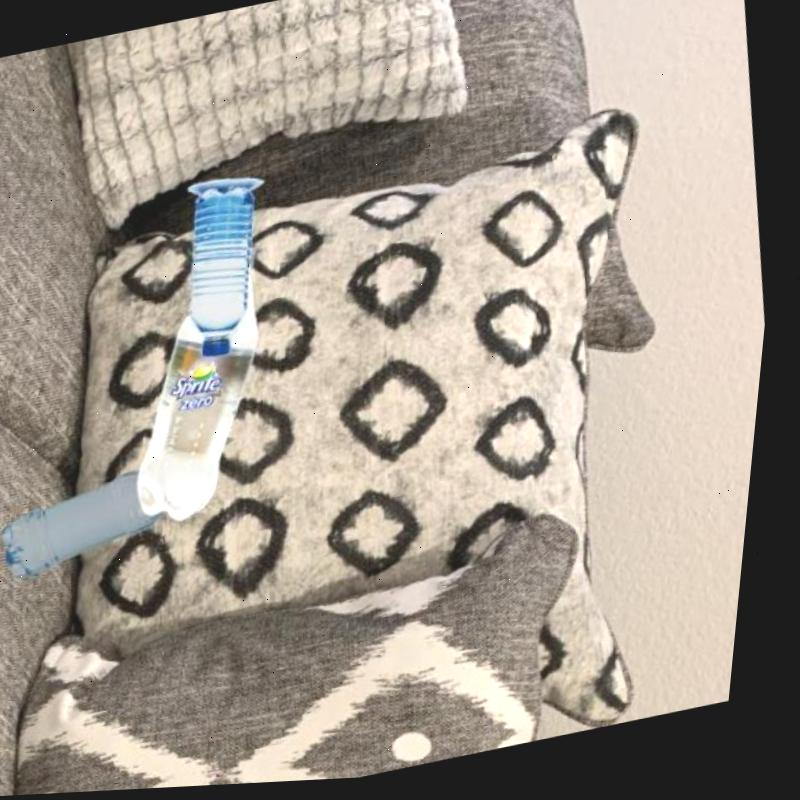botella: (106, 241, 298, 533), (2, 467, 179, 583), (173, 182, 283, 364)
